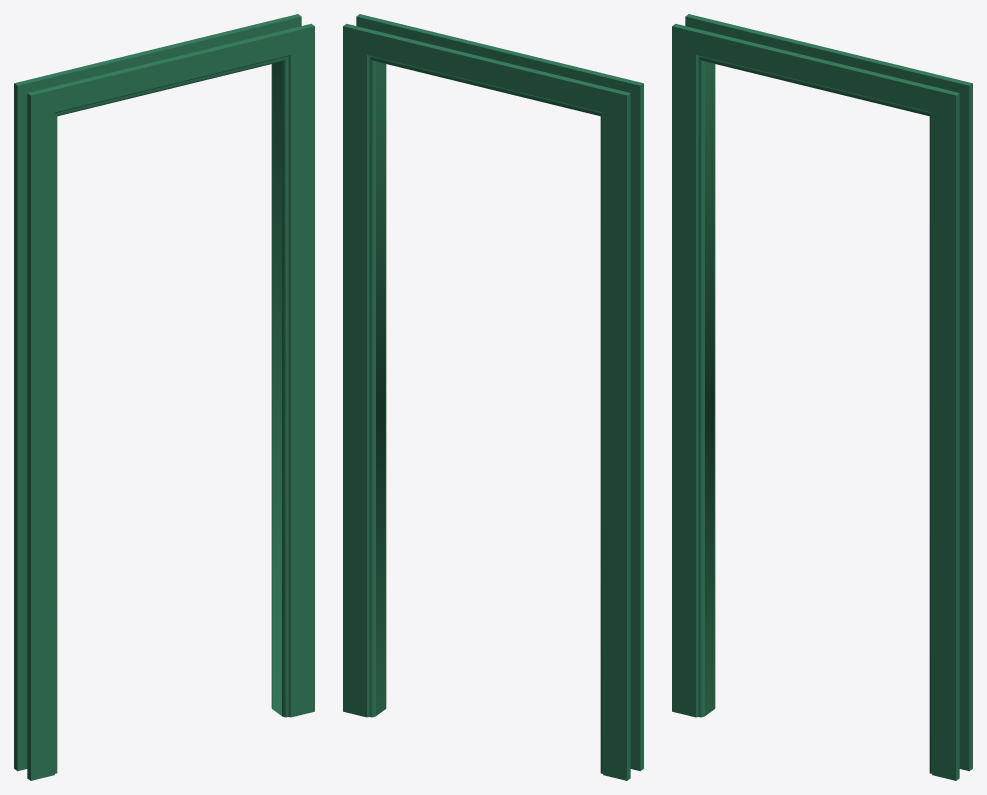
Rendered from 25_BARCELONA_Frame.glb.
The picture shows the model from 3 angles, left to right: view 1: azimuth 30°, elevation 25°; view 2: azimuth 150°, elevation 25°; view 3: azimuth 330°, elevation 25°; orthographic projection.
Parts seen in each view (by area): view 1: 25_BARCELONA_Frame; view 2: 25_BARCELONA_Frame; view 3: 25_BARCELONA_Frame.
Part boxes in pixels (x1,y1,x2,y2): 25_BARCELONA_Frame: (14, 14, 314, 780); 25_BARCELONA_Frame: (343, 14, 643, 780); 25_BARCELONA_Frame: (672, 14, 972, 780).
Bounding box in the file's own units: 1.01 × 2.33 × 0.1031.
